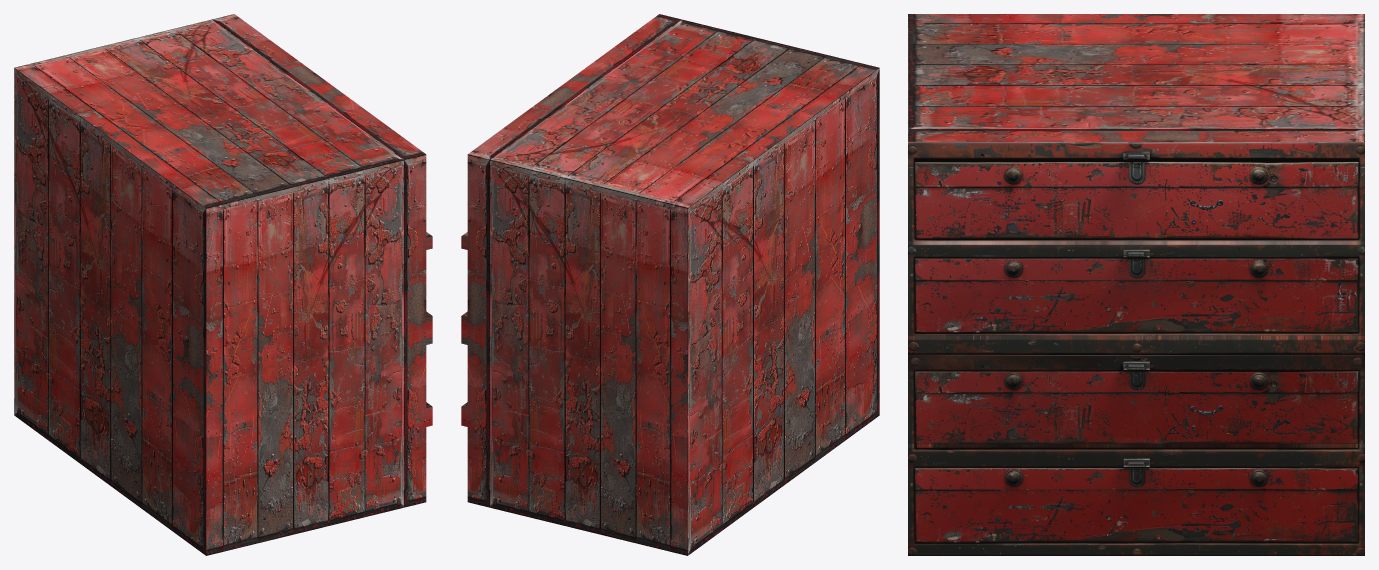
Rendered from TOOLBOX.fbx.
3 renders of one model, left to right at view 1: azimuth 30°, elevation 25°; view 2: azimuth 150°, elevation 25°; view 3: azimuth 270°, elevation 25°, orthographic. The views are drawn at different scales.
Parts seen in each view (by area): view 1: toolbox; view 2: toolbox; view 3: toolbox.
Boxes of the visible parts, <box> form: toolbox: <box>14,14,432,555</box>; toolbox: <box>461,14,879,555</box>; toolbox: <box>908,14,1364,555</box>.
Bounding box in the file's own units: 38.65 × 56.73 × 56.73.
